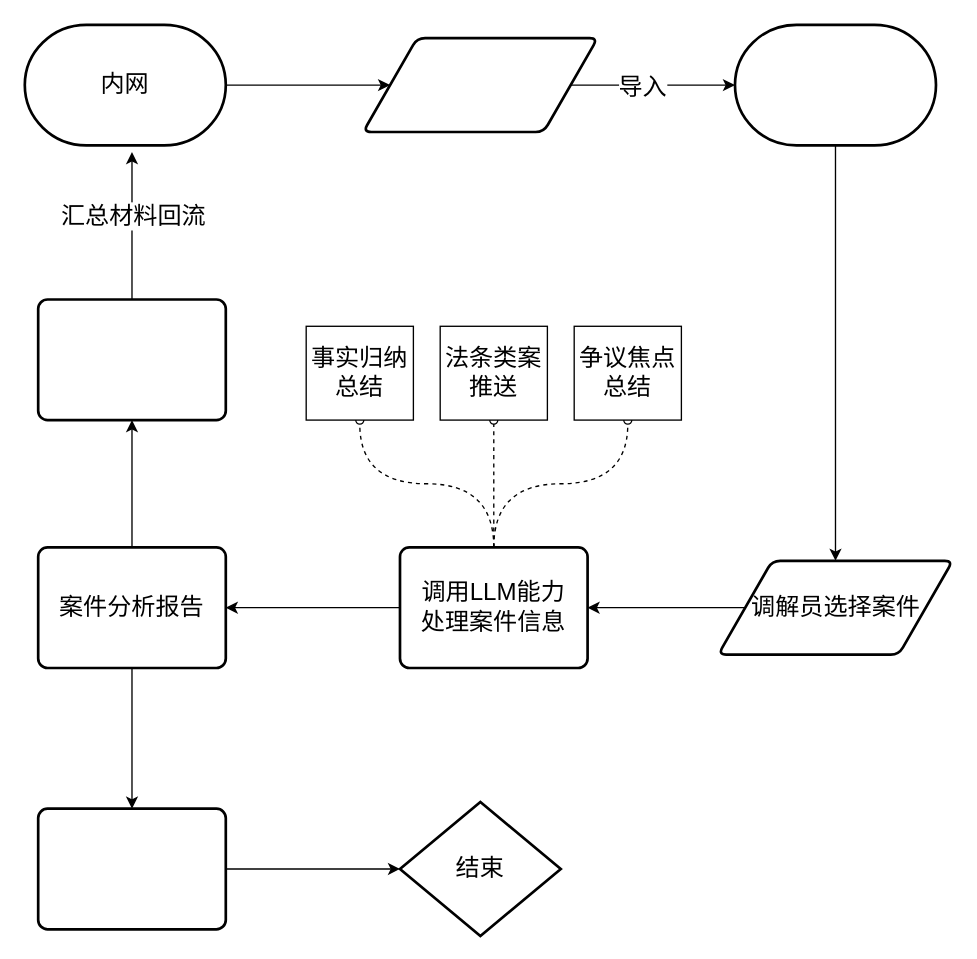
The diagram is 977 pixels wide and 959 high, and some of its shapes have lost their labels. Here are the shapes that lost their labels. From the top down, the centre of each, then its label:
point (479, 84): 法官筛选案件
point (835, 84): 共享法庭系统
point (131, 359): 调解员调解失败
point (131, 868): 调解员调解成功
